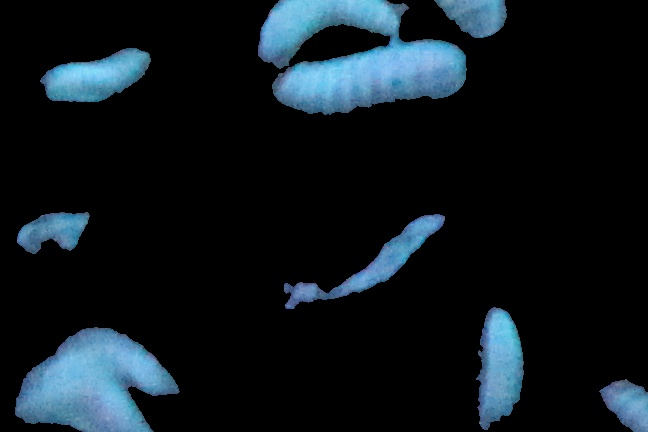larvae: (272, 39, 472, 121), (50, 323, 175, 397), (13, 373, 155, 432), (258, 1, 399, 56), (473, 301, 526, 432), (35, 46, 152, 100), (341, 1, 516, 27)
